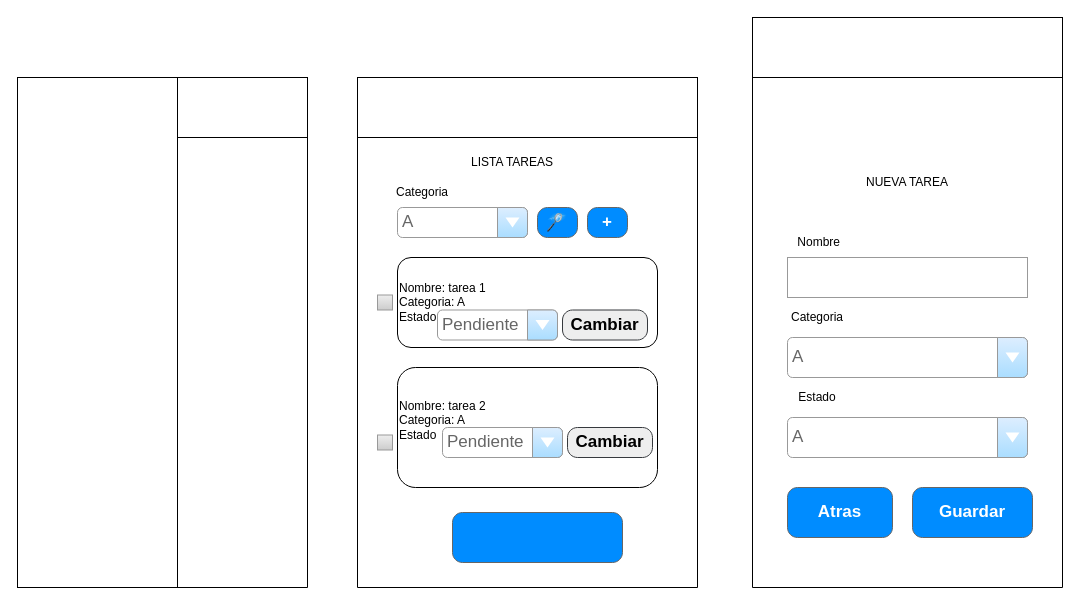
Some shapes in this 1080 by 605 pixel diagram are drawn without their labels. The shapes that lost their labels are listed below. From the top down, each one's centre as x and y in pixels, then its label:
point 97,332: MENU - CREAR TAREA
point 537,537: Actaulizar todos
